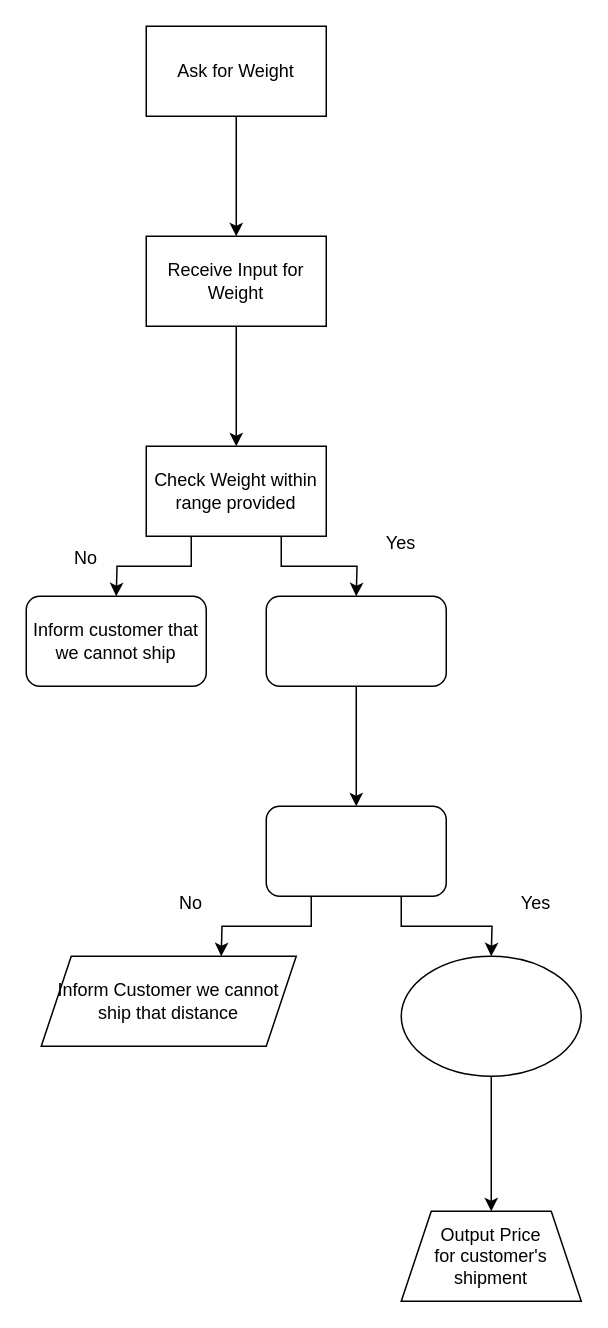
Image size: 608x1328. Some labels were removed from this diagram. Here are the shapes that lost their labels. From the top down, the centre of each, then its label:
point 355,640: Ask for Distance for shipment
point 355,850: Receive Distance and Check in Range
point 490,1015: Calculate price based on weight and range
